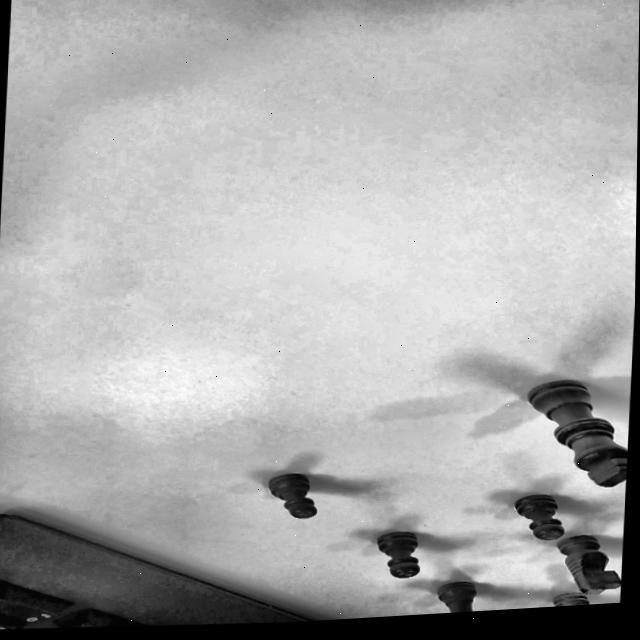black-king: (475, 370, 631, 496)
black-knight: (550, 525, 623, 599)
black-pawn: (249, 464, 340, 529), (356, 521, 436, 584), (496, 491, 576, 547)
